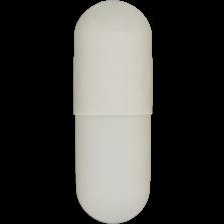0093-7336: (0, 0, 224, 224)
